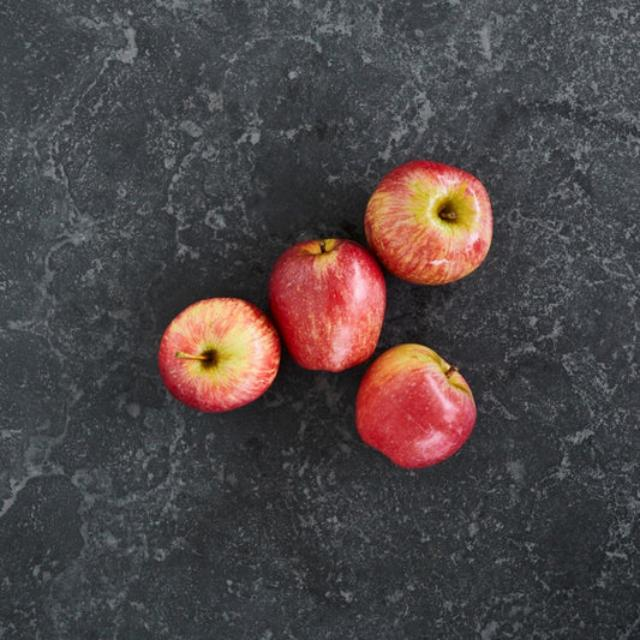Apples: (366, 161, 492, 285), (272, 238, 384, 369), (359, 344, 476, 468), (158, 296, 278, 410)
